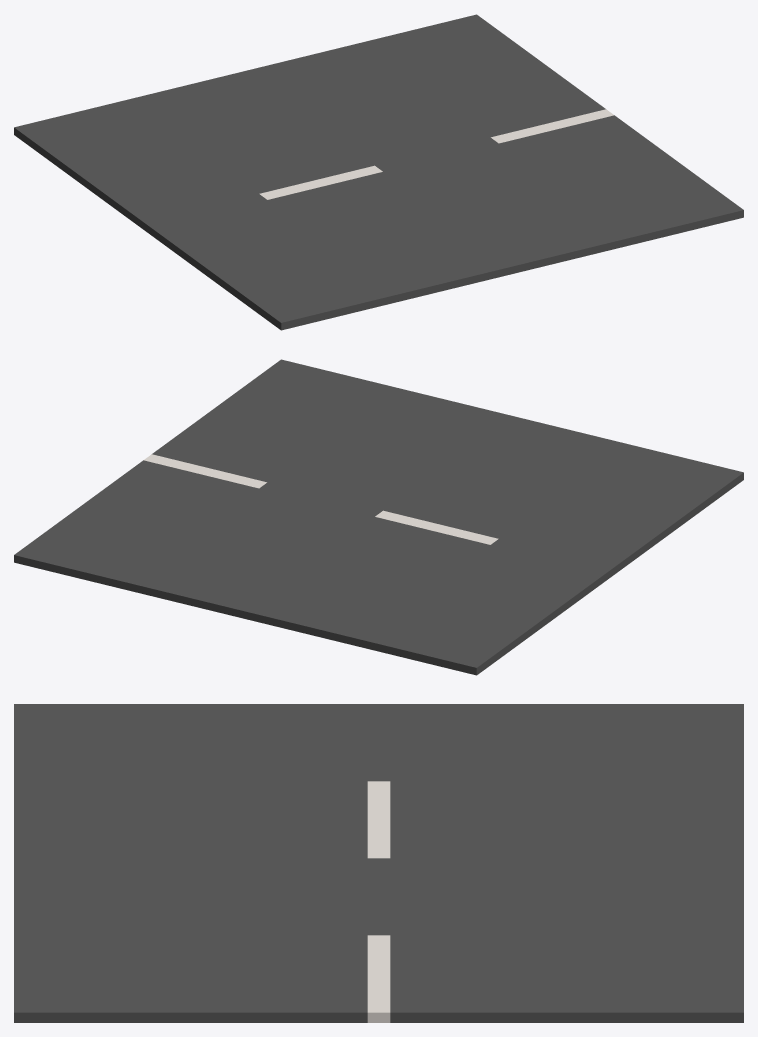
Rendered from Tutorialmap_V2_unfinished-57.obj.
3 renders of one model, top to bottom at view 1: azimuth 30°, elevation 25°; view 2: azimuth 150°, elevation 25°; view 3: azimuth 270°, elevation 25°, orthographic. The views are drawn at different scales.
Size of the model in its own units: 6.4 by 0.1 by 6.4.
Materials: 1 (1 with a texture image).
